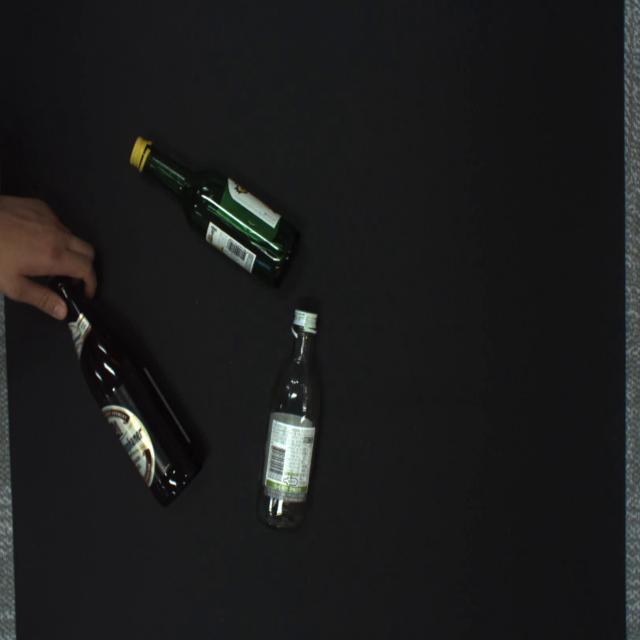beer-bottle: (46, 277, 207, 507)
soju-bottle: (130, 136, 300, 290), (255, 308, 322, 532)
